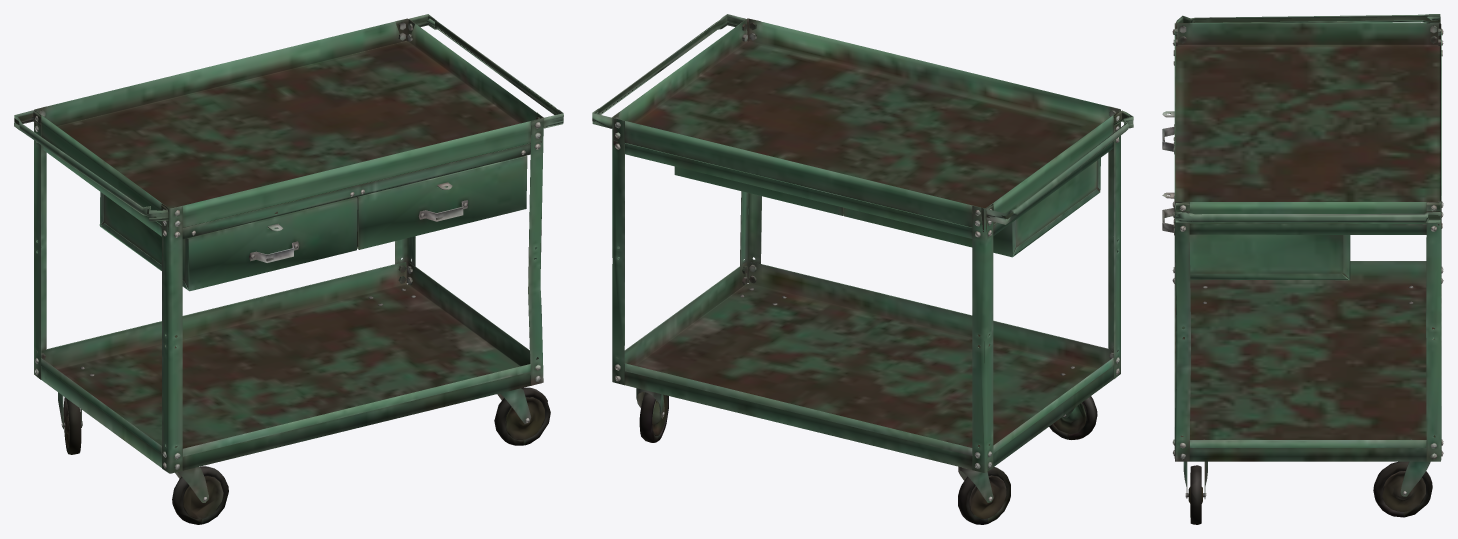
Rendered from tool_cart.glb.
3 renders of one model, left to right at view 1: azimuth 30°, elevation 25°; view 2: azimuth 150°, elevation 25°; view 3: azimuth 270°, elevation 25°, orthographic. The views are drawn at different scales.
Visible parts, largest first — view 1: tool_cart; view 2: tool_cart; view 3: tool_cart.
Part boxes in pixels (bbox=[...]): tool_cart: bbox=[14, 14, 563, 524]; tool_cart: bbox=[592, 14, 1133, 524]; tool_cart: bbox=[1162, 14, 1443, 524].
Size of the model in its own units: 1.27 by 0.9647 by 0.7522.
Materials: 1 (1 with a texture image).
